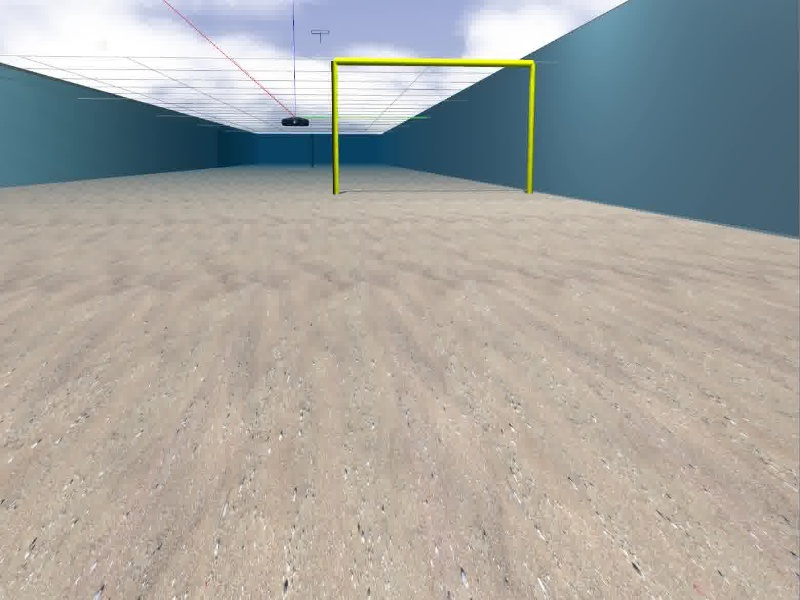gate: (331, 56, 537, 195)
